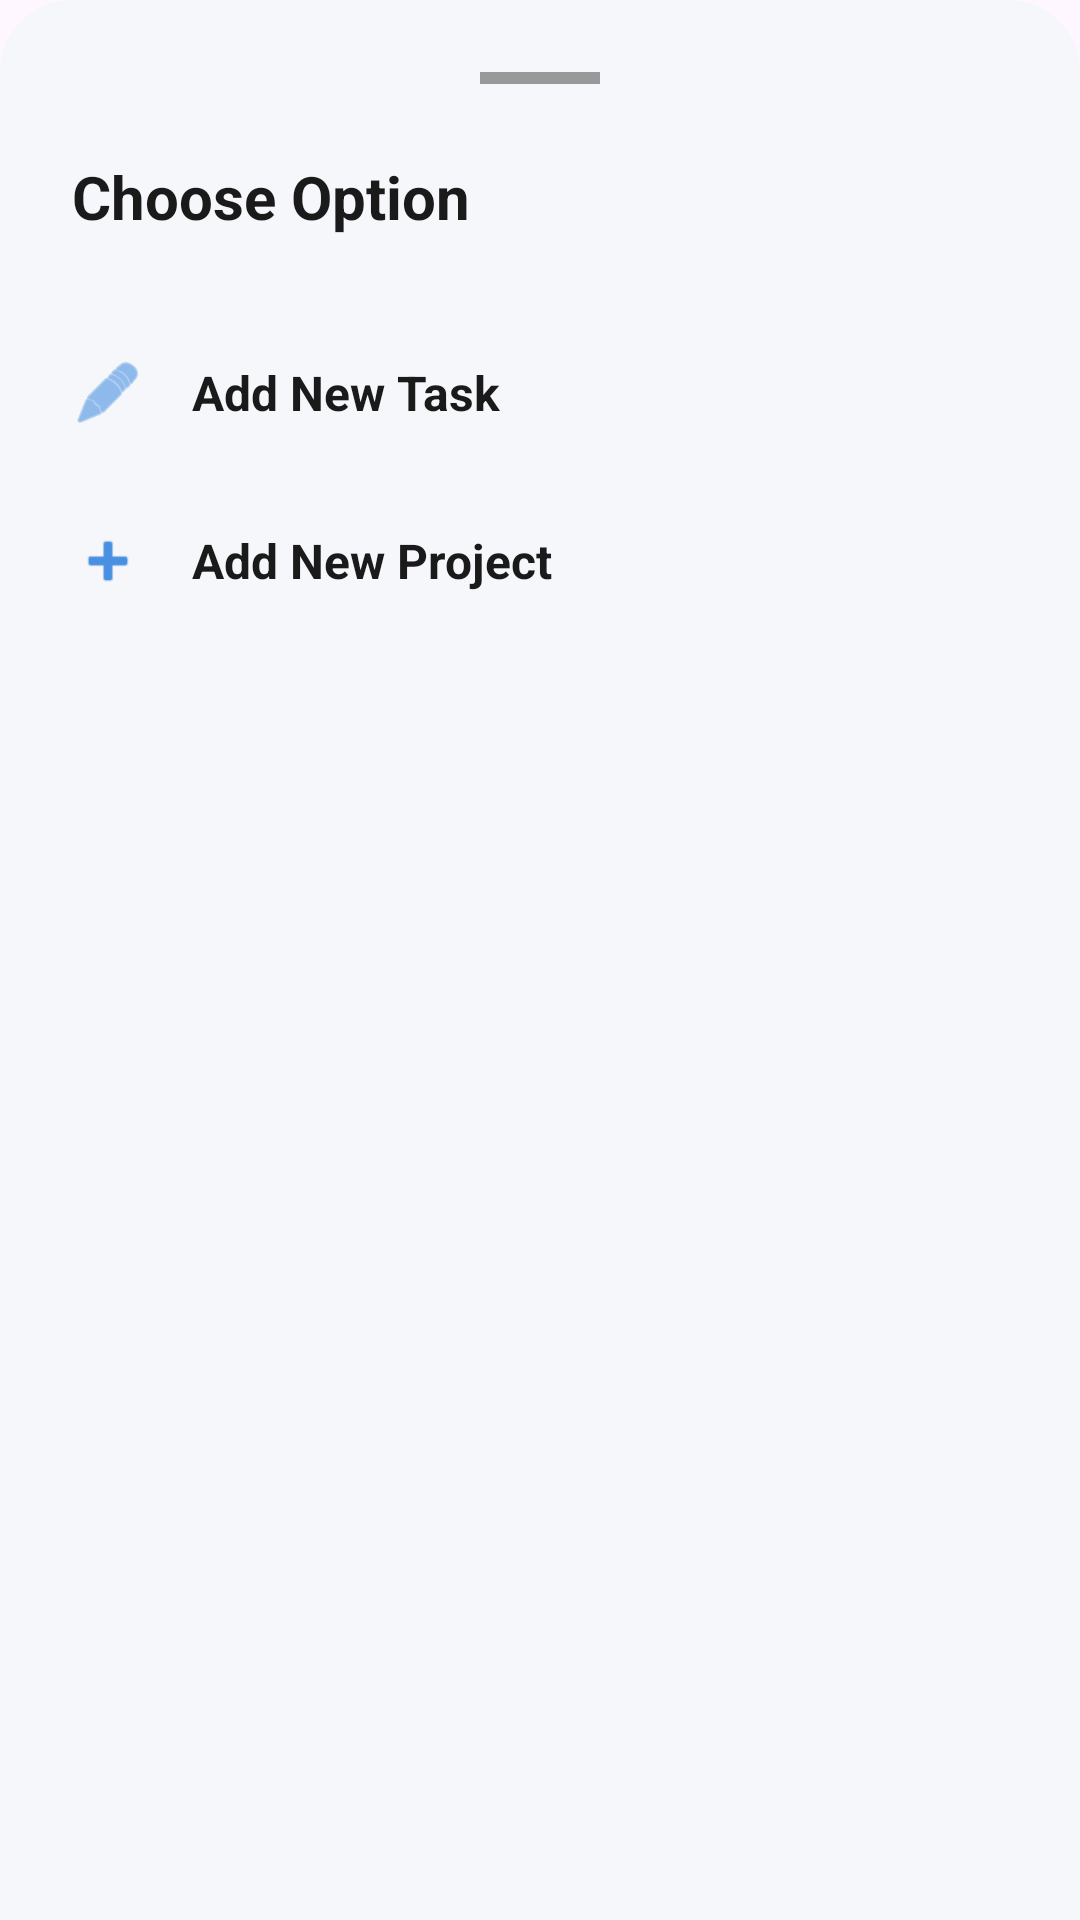

Point at icon controls on the screen. Image size 1080w x 1920h, points as (x,y).
edit: (107,392)
